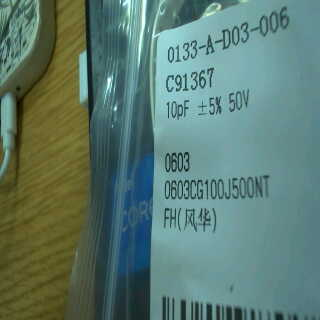10pF: (162, 97, 197, 129)
